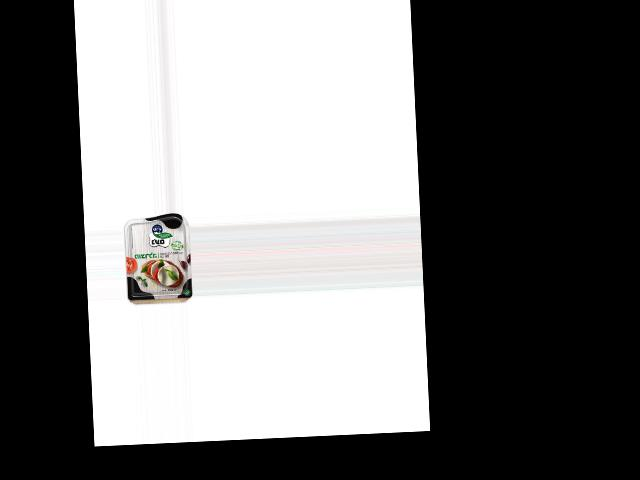cheese: (123, 214, 192, 301)
